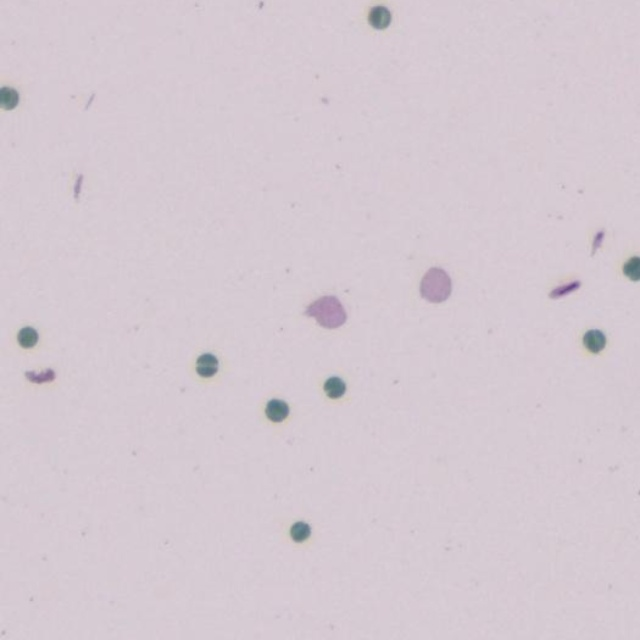intermediate: (305, 296, 346, 328), (419, 267, 451, 302)
non_viable: (367, 5, 391, 29), (265, 399, 289, 422), (583, 329, 606, 352), (195, 354, 217, 377), (323, 375, 345, 397), (17, 325, 38, 347), (289, 521, 310, 542), (0, 87, 18, 110), (623, 256, 640, 280)
